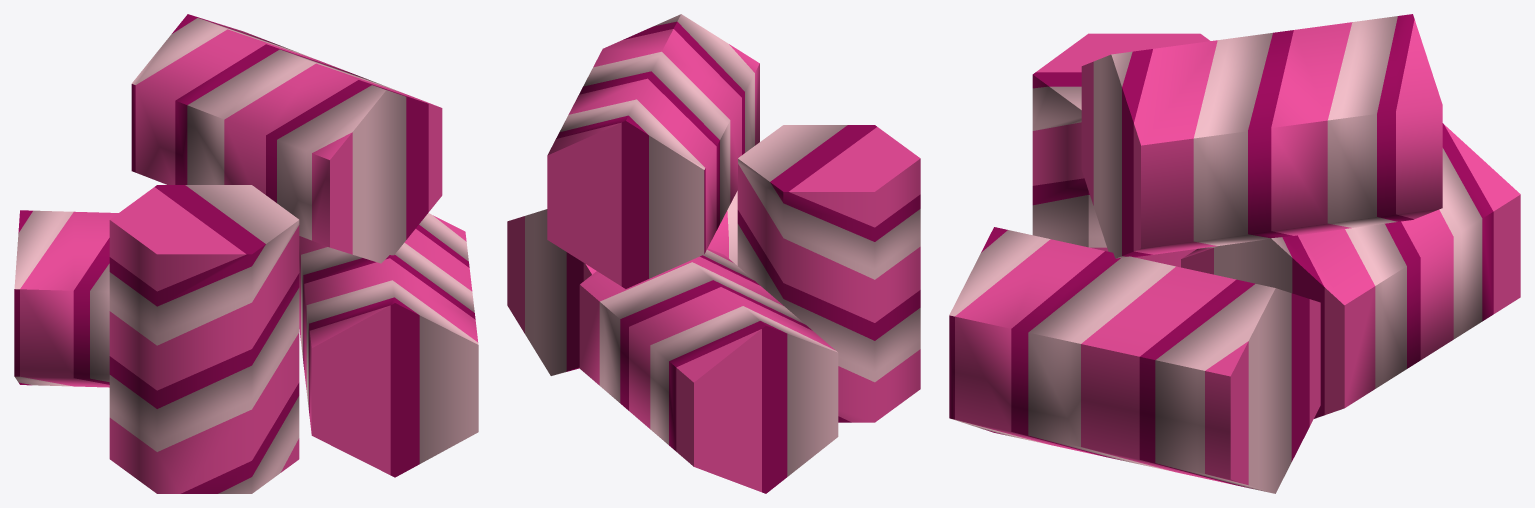
The model's file is Sweets_revard.fbx.
The picture shows the model from 3 angles, left to right: view 1: azimuth 30°, elevation 25°; view 2: azimuth 150°, elevation 25°; view 3: azimuth 270°, elevation 25°; orthographic projection. The views are drawn at different scales.
Parts seen in each view (by area): view 1: Cylinder.020; view 2: Cylinder.020; view 3: Cylinder.020.
Part boxes in pixels (bbox=[...]): Cylinder.020: bbox=[14, 14, 478, 493]; Cylinder.020: bbox=[507, 14, 920, 493]; Cylinder.020: bbox=[949, 14, 1520, 493].
Size of the model in its own units: 0.8068 by 0.8532 by 0.6616.
